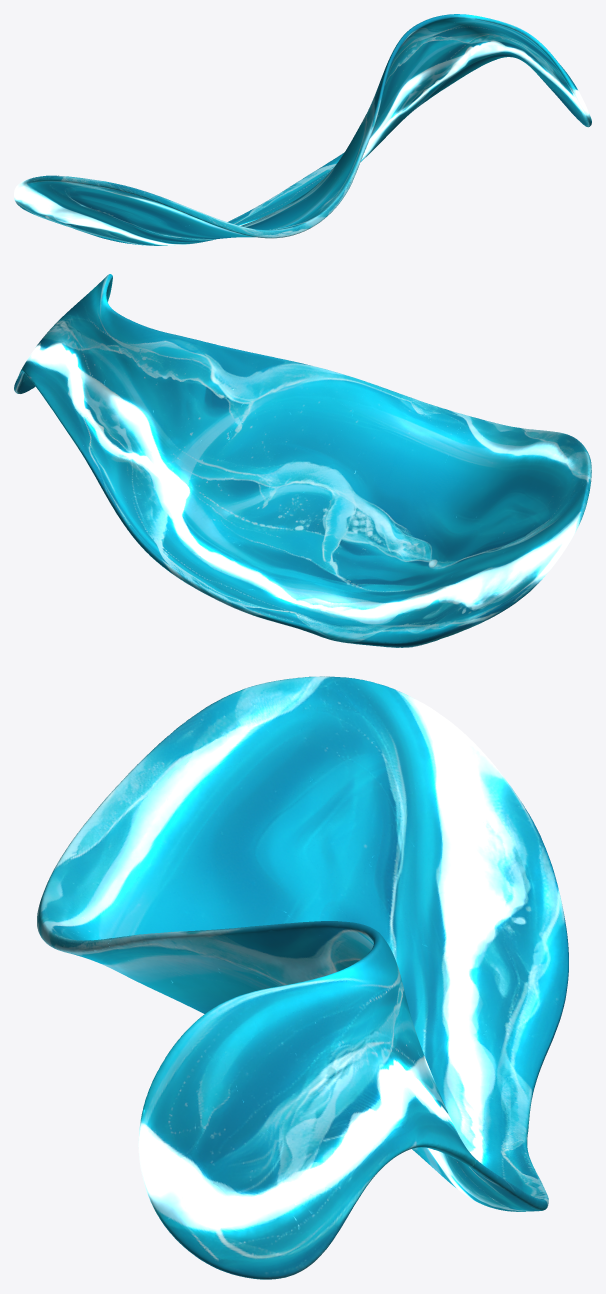
File: river-ribbon.glb
3 renders of one model, top to bottom at view 1: azimuth 30°, elevation 25°; view 2: azimuth 150°, elevation 25°; view 3: azimuth 270°, elevation 25°, orthographic. The views are drawn at different scales.
Bounding box in the file's own units: 1.9 × 0.7021 × 0.8423.
Materials: 1 (1 with a texture image).
